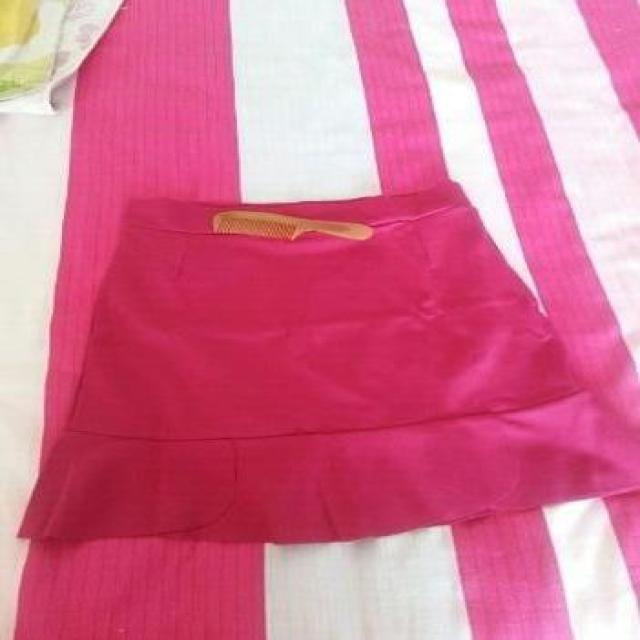skirt: (20, 183, 638, 537)
